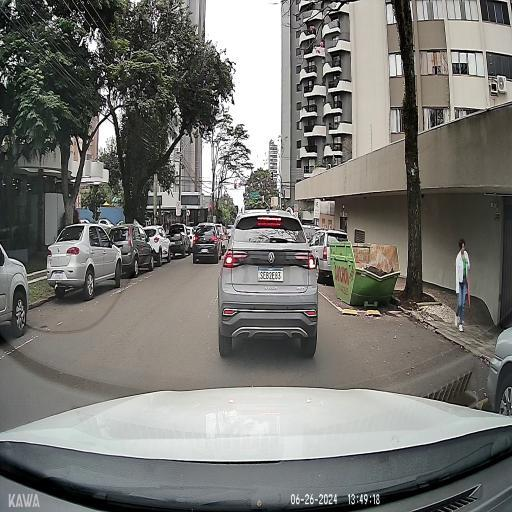R-24a: (186, 209, 190, 216)
R-6b: (316, 200, 320, 210), (294, 204, 298, 210), (177, 202, 180, 208)
